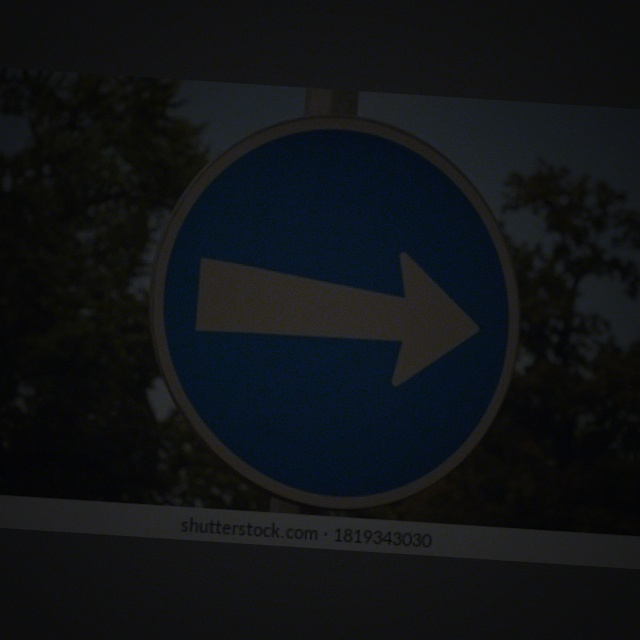Compulsory_Turn_Right: (145, 104, 522, 508)
